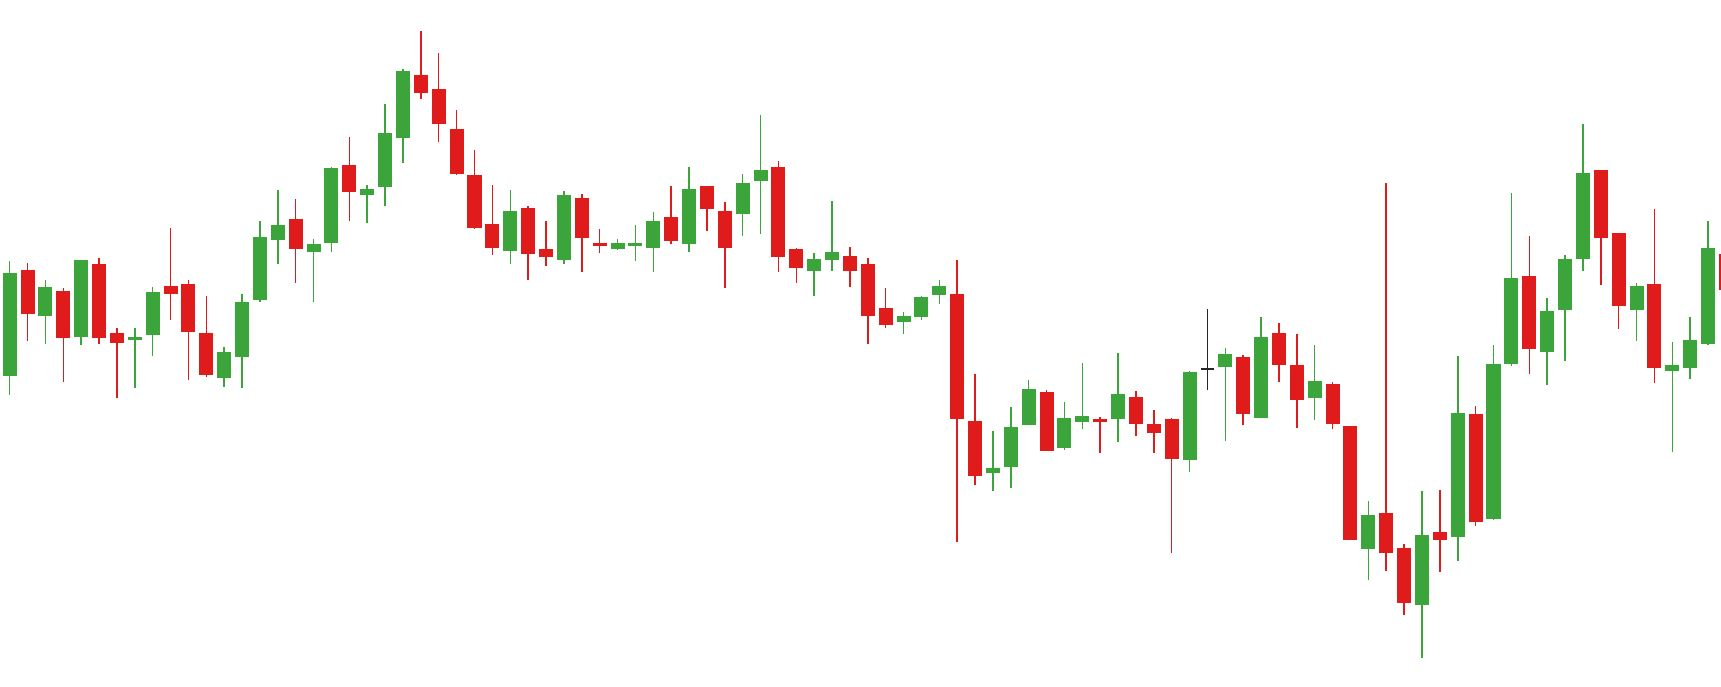buy: (127, 288, 234, 391)
sell: (677, 113, 767, 219)
